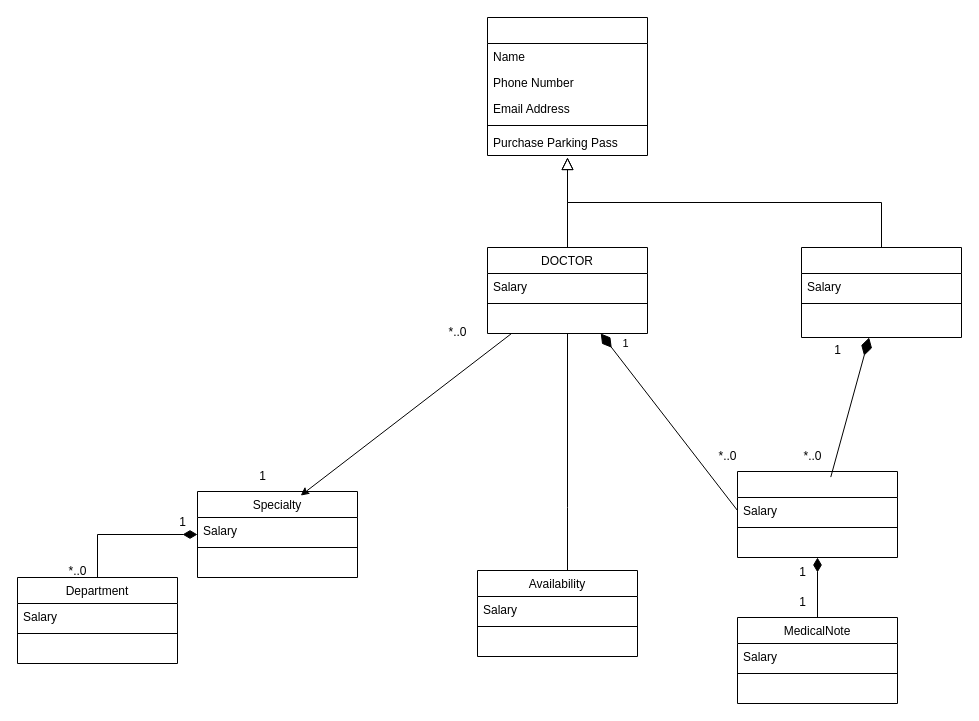
Some shapes in this 979 by 721 pixel diagram are drawn without their labels. The box of each missing label's shape, as (x1, y1, x2, y2) in pixels:
Appointment: (736, 470, 898, 558)
PATIENT: (800, 246, 962, 338)
Person: (486, 16, 648, 156)
